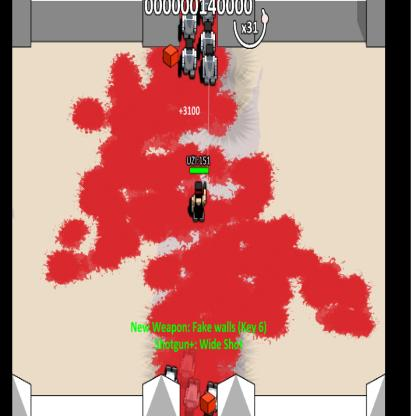agent: (188, 183, 207, 221)
jombie: (201, 46, 218, 86), (182, 39, 198, 79), (181, 7, 197, 40), (201, 23, 216, 56)
